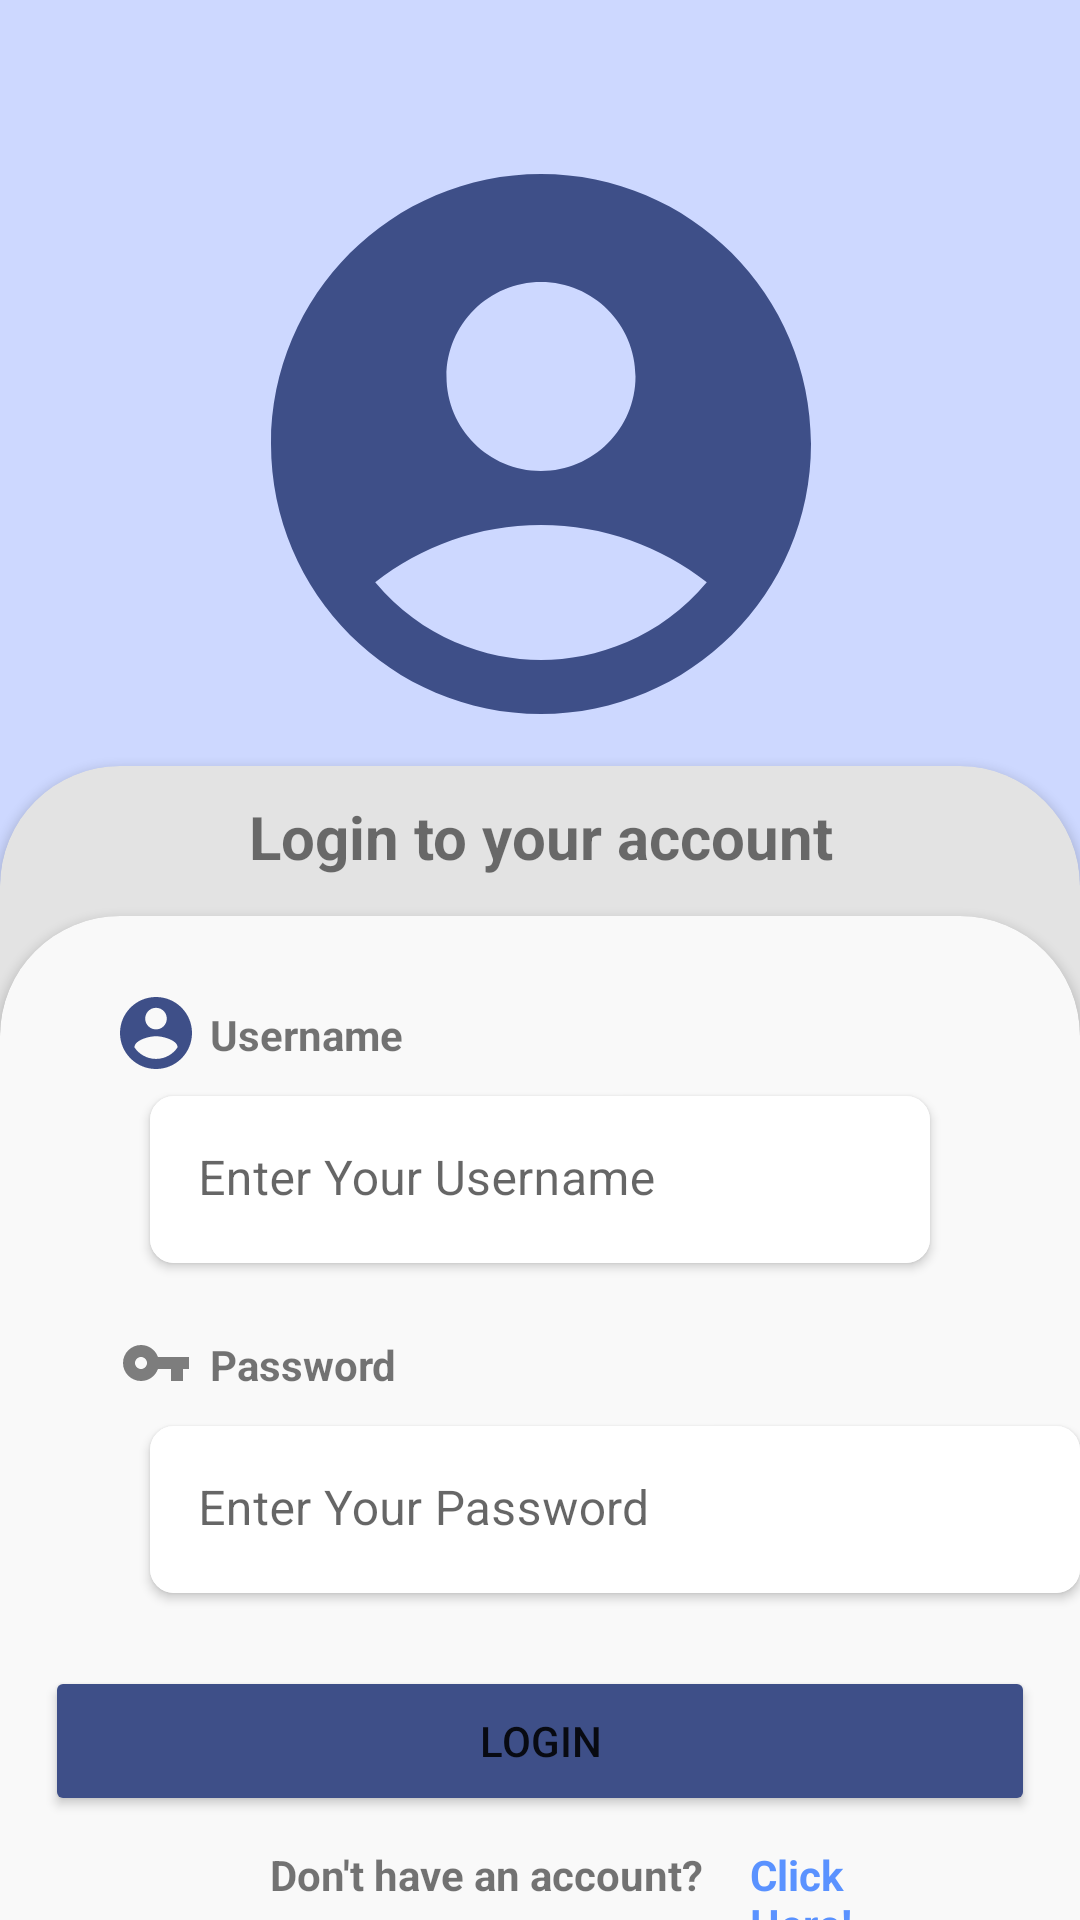

Icon click points for this 1080×1920 phone screenshot, format point (x, y):
profile symbol: point (156, 1033)
